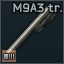M9A3 9x19 threaded barrel: (0, 0, 64, 64)
